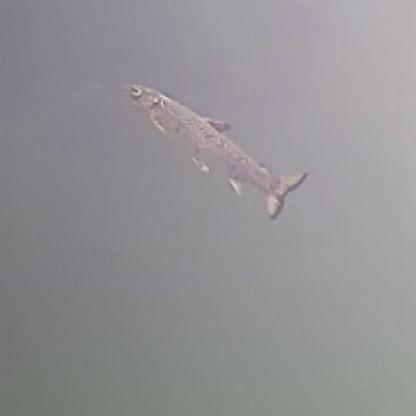salmon: (116, 76, 309, 218)
